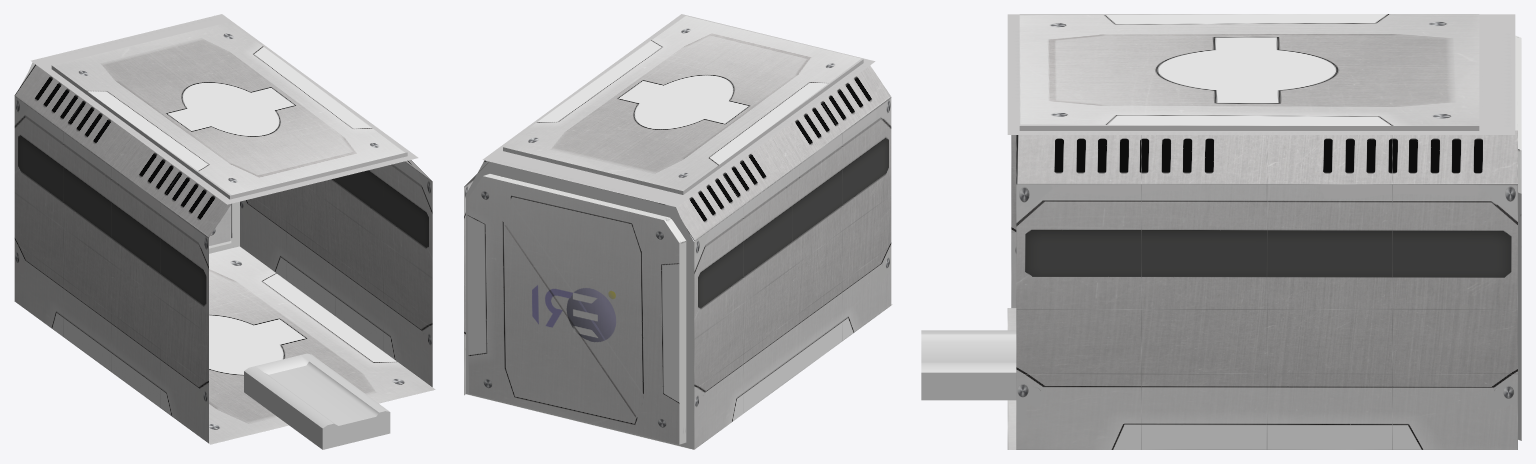
The model's file is HybridSpaceEnvironment.fbx.
The picture shows the model from 3 angles, left to right: view 1: azimuth 30°, elevation 25°; view 2: azimuth 150°, elevation 25°; view 3: azimuth 270°, elevation 25°; orthographic projection. The views are drawn at different scales.
Visible parts, largest first — view 1: pCube4, pCube7, pCube8, pCube6, pCube5, pCube1; view 2: pCube1, pCube4, pCube7, pCube8; view 3: pCube8, pCube7, pCube5, pCube1, pCube4, pCube6.
Boxes of the visible parts, left/top/right/bottom form: pCube4: left=14, top=64, right=231, bottom=443; pCube7: left=31, top=14, right=418, bottom=204; pCube8: left=240, top=160, right=432, bottom=386; pCube6: left=209, top=246, right=435, bottom=444; pCube5: left=244, top=353, right=390, bottom=449; pCube1: left=20, top=62, right=239, bottom=253; pCube1: left=466, top=160, right=694, bottom=449; pCube4: left=676, top=65, right=891, bottom=449; pCube7: left=482, top=14, right=875, bottom=207; pCube8: left=464, top=162, right=488, bottom=395; pCube8: left=1016, top=130, right=1517, bottom=449; pCube7: left=1007, top=14, right=1515, bottom=134; pCube5: left=921, top=330, right=1016, bottom=400; pCube1: left=1515, top=35, right=1521, bottom=440; pCube4: left=1011, top=135, right=1016, bottom=307; pCube6: left=1007, top=308, right=1016, bottom=449.
Bounding box in the file's own units: 10 × 10.16 × 17.88.
Materials: 5 (4 with a texture image).
